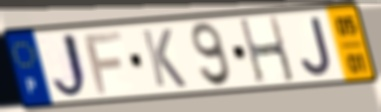9: (190, 20, 235, 89)
F: (81, 29, 125, 97)
H: (237, 14, 298, 86)
J: (50, 30, 94, 101), (298, 14, 334, 78)
K: (138, 27, 189, 89)
